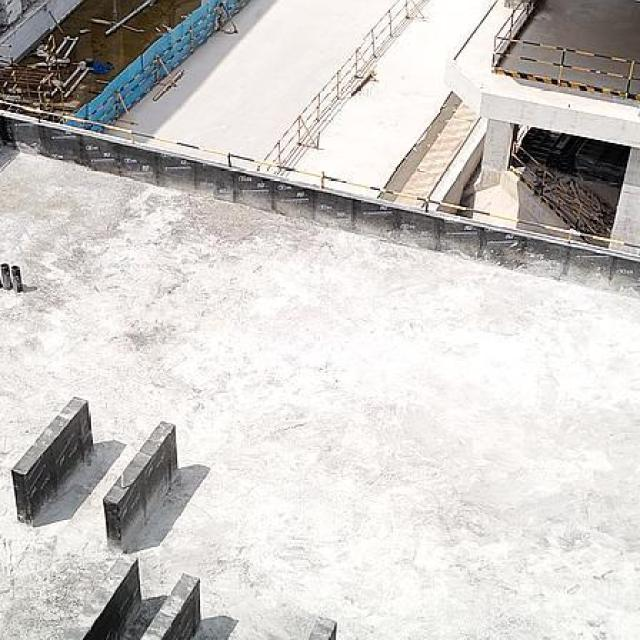edge_guardrail: (0, 100, 640, 250), (490, 0, 640, 100), (508, 142, 596, 235)
